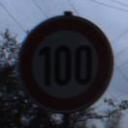speed_limit_100: (12, 12, 118, 118)
